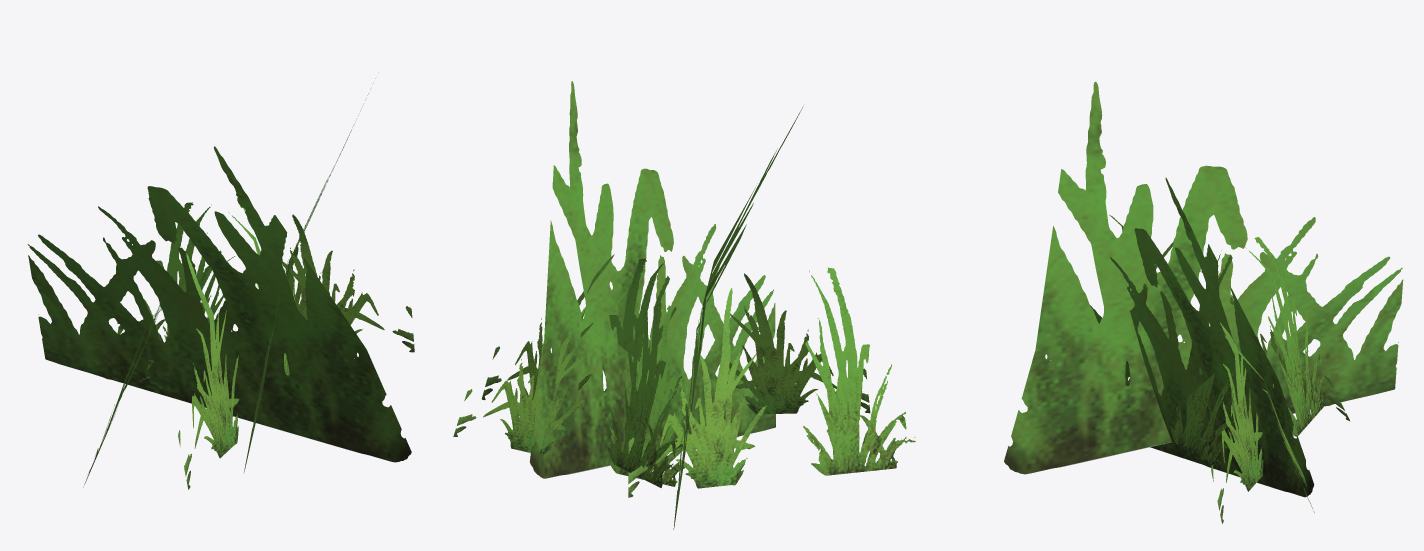
File: Groupe_Herbe_00.fbx
3 views of the same model, side by side, from view 1: azimuth 30°, elevation 25°; view 2: azimuth 150°, elevation 25°; view 3: azimuth 270°, elevation 25° (orthographic).
Parts seen in each view (by area): view 1: Groupe_Herbe_00; view 2: Groupe_Herbe_00; view 3: Groupe_Herbe_00.
Part boxes in pixels (<box>): Groupe_Herbe_00: <box>27,78,414,489</box>; Groupe_Herbe_00: <box>453,81,915,529</box>; Groupe_Herbe_00: <box>1004,81,1403,523</box>.
Size of the model in its own units: 0.9729 by 0.8852 by 0.8224.
